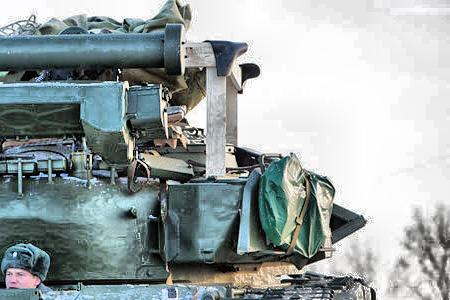tanks: (1, 22, 377, 300)
